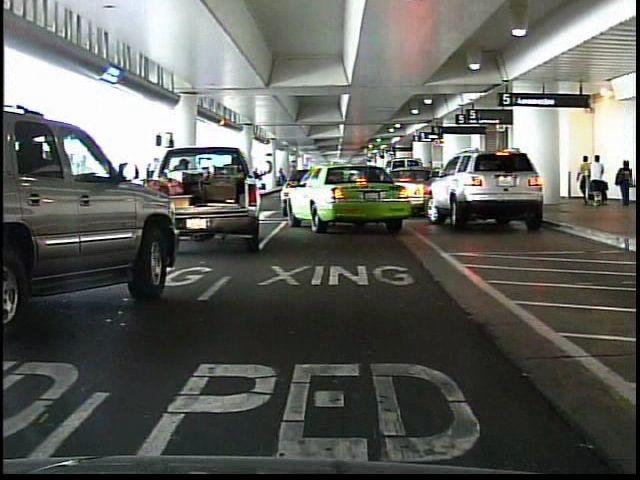person: (140, 154, 167, 222), (613, 159, 636, 209), (590, 153, 610, 210), (575, 155, 590, 205)
